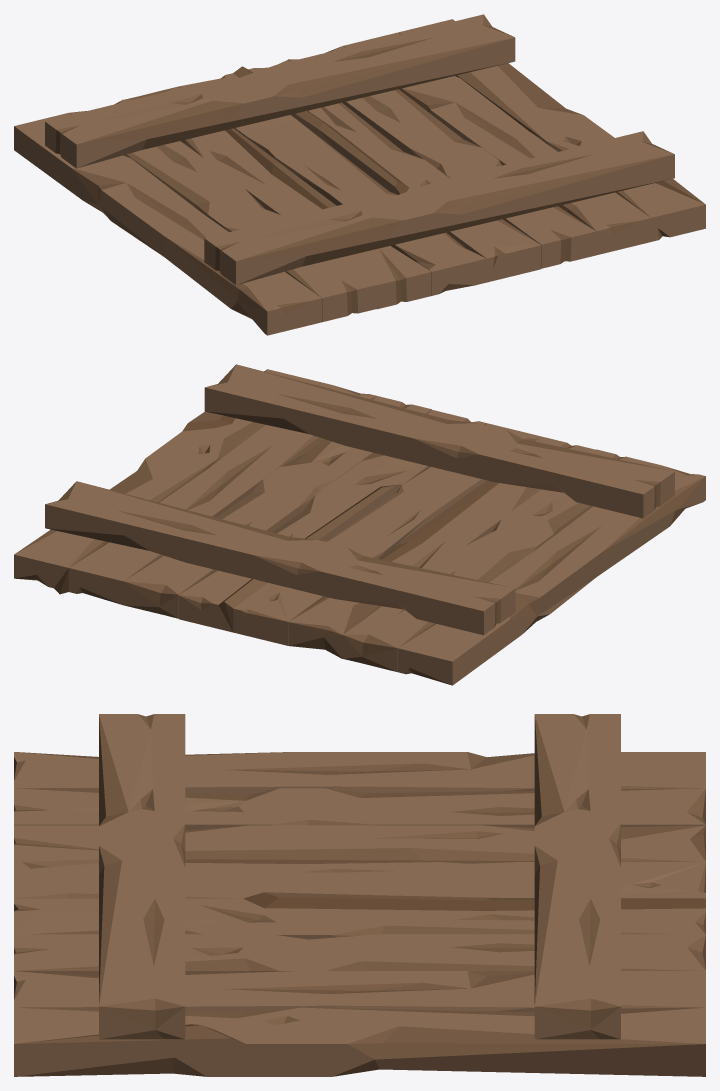
The model's file is mesh_plank_roof.fbx.
3 views of the same model, one above another, from view 1: azimuth 30°, elevation 25°; view 2: azimuth 150°, elevation 25°; view 3: azimuth 270°, elevation 25° (orthographic). The views are drawn at different scales.
Parts seen in each view (by area): view 1: mesh_plank_roof; view 2: mesh_plank_roof; view 3: mesh_plank_roof.
Part boxes in pixels (left/top/right/bottom): mesh_plank_roof: left=14, top=14, right=705, bottom=335; mesh_plank_roof: left=14, top=364, right=705, bottom=685; mesh_plank_roof: left=14, top=714, right=705, bottom=1076.
Bounding box in the file's own units: 2 × 0.245 × 2.
